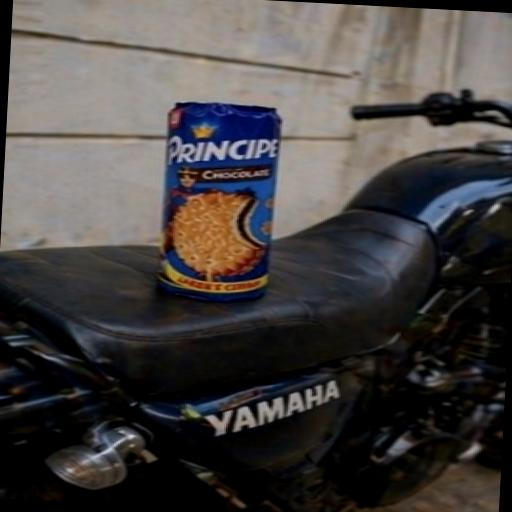prince: (55, 43, 376, 371)
